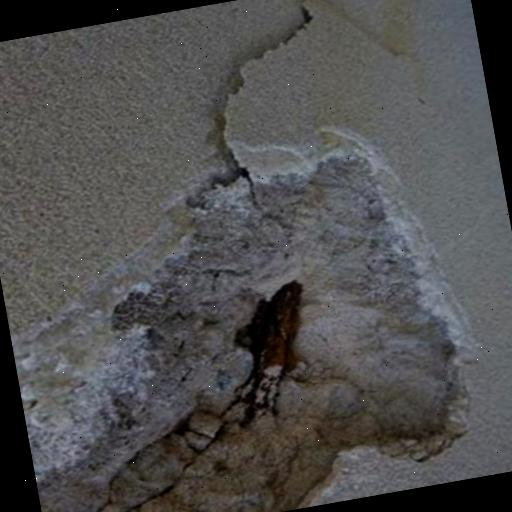spalling: (34, 143, 472, 512)
